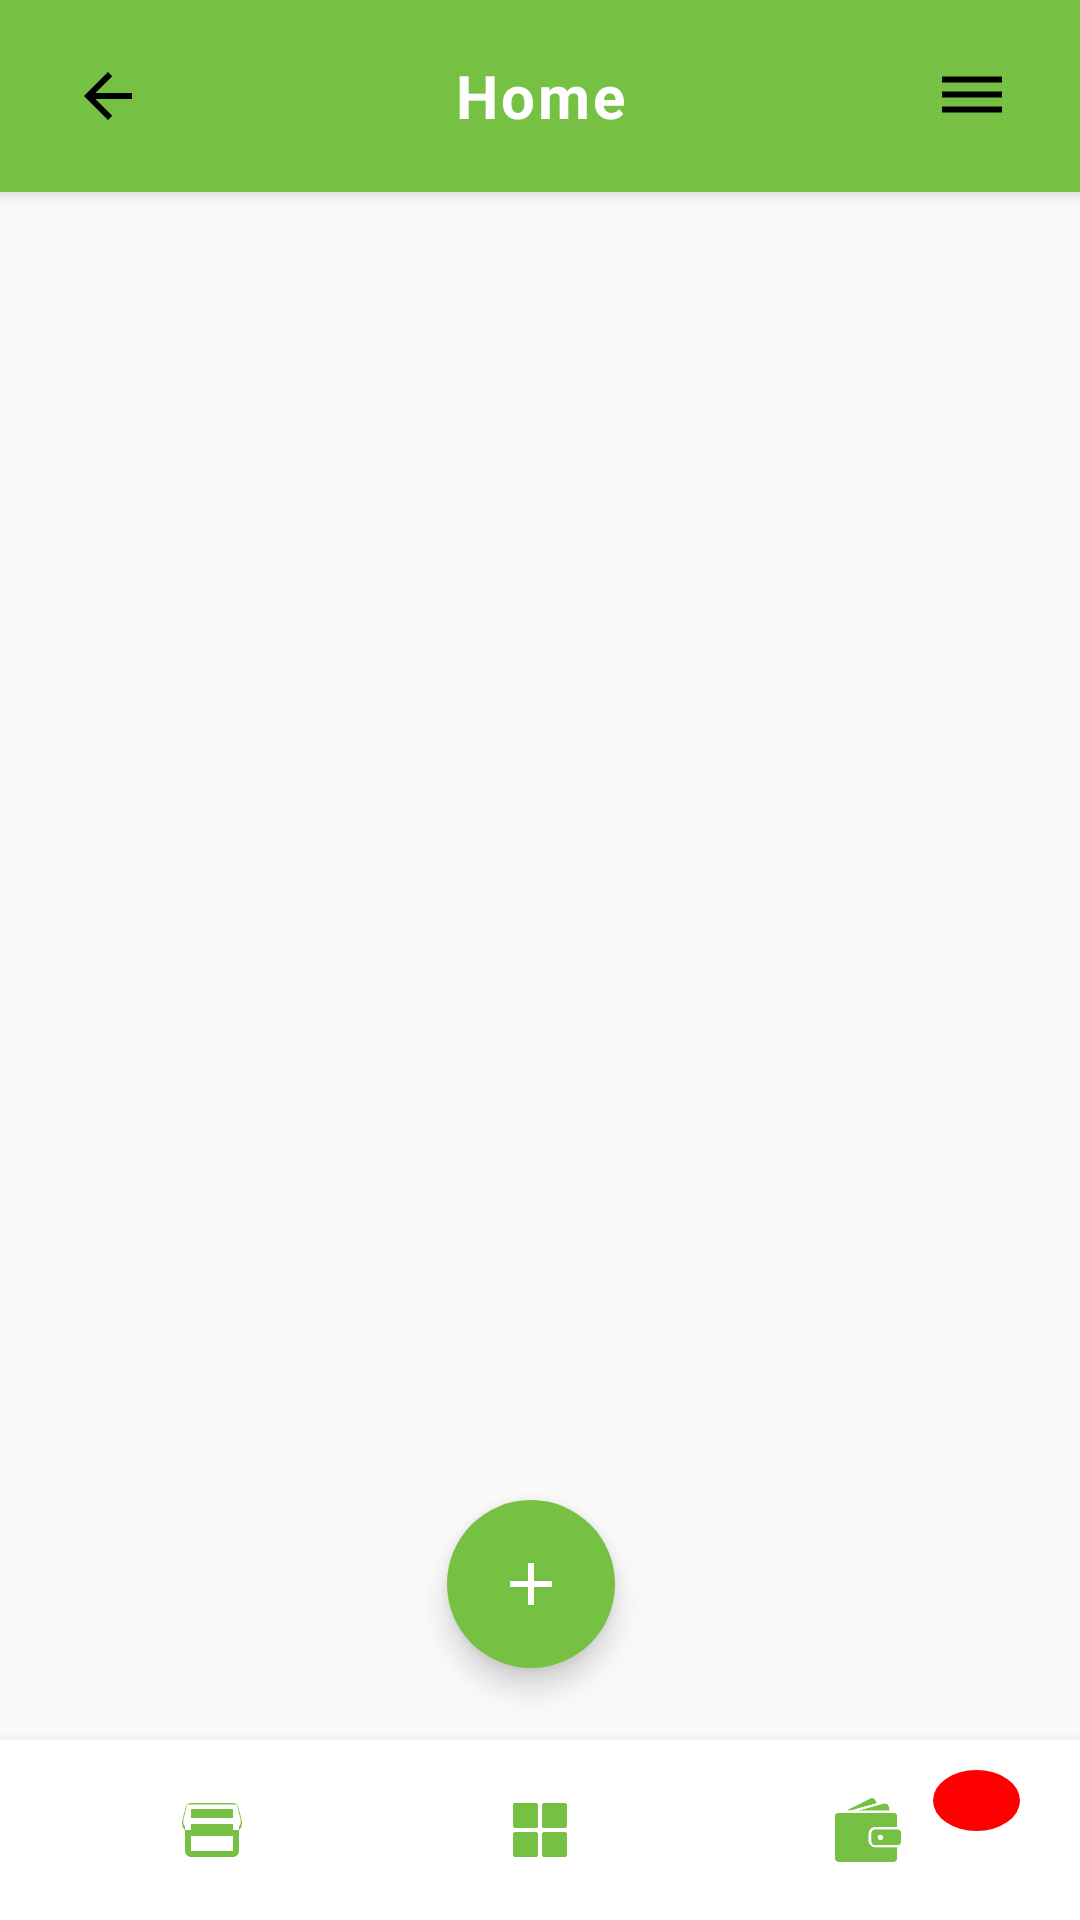

Where to tap for icons on this 1080*1920 app screen, as [x,y]:
add: [531,1584]
Back: [108,96]
grid: [540,1830]
Menu: [972,94]
